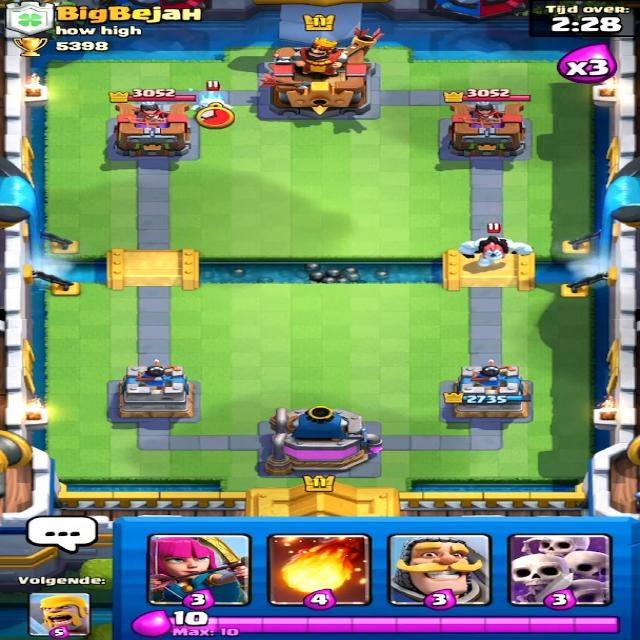Enemy_Ice_Golem_Troop: (441, 233, 548, 270)
Fireball_Card: (271, 535, 370, 605)
